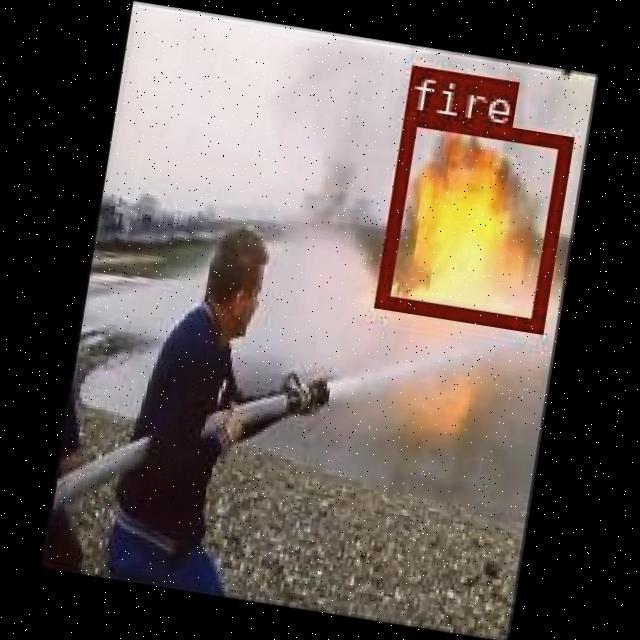fire: (372, 110, 571, 331)
